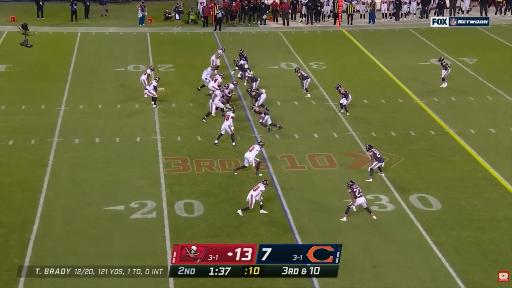Helmet: (347, 180, 355, 187), (261, 179, 269, 186), (366, 144, 373, 151), (242, 73, 249, 79), (233, 59, 239, 66), (218, 72, 225, 78), (223, 83, 229, 89), (258, 141, 264, 147), (247, 88, 253, 94), (214, 65, 219, 71), (149, 65, 154, 71), (250, 104, 255, 110), (239, 49, 244, 54), (232, 81, 237, 86), (230, 107, 235, 112), (154, 77, 159, 82), (336, 84, 341, 89), (439, 57, 443, 62), (211, 66, 216, 70), (219, 87, 224, 91), (295, 67, 299, 72), (221, 47, 225, 51)
Jersey: (247, 184, 265, 208), (244, 145, 261, 166), (349, 186, 366, 207), (250, 184, 265, 200), (368, 149, 384, 162), (246, 145, 261, 158), (349, 186, 363, 199), (224, 112, 234, 126), (202, 67, 214, 78), (212, 90, 223, 102), (141, 69, 152, 80), (236, 62, 247, 73), (146, 80, 157, 91), (297, 71, 309, 81), (337, 88, 349, 98), (245, 74, 258, 83), (225, 84, 234, 97), (239, 53, 248, 64), (253, 89, 262, 100), (256, 107, 270, 114), (440, 60, 449, 70), (213, 75, 223, 84), (214, 50, 222, 58)
Player: (341, 180, 376, 221), (238, 179, 268, 215), (233, 141, 264, 175), (214, 107, 237, 146), (251, 105, 282, 132), (203, 87, 225, 121), (366, 145, 384, 181), (145, 77, 164, 108), (247, 88, 270, 110), (336, 84, 351, 115), (295, 68, 310, 97), (197, 66, 215, 90), (232, 60, 251, 79), (224, 81, 237, 107), (208, 73, 224, 94), (439, 57, 450, 87), (140, 66, 154, 89), (211, 47, 225, 67), (243, 74, 259, 89), (238, 49, 248, 65)
